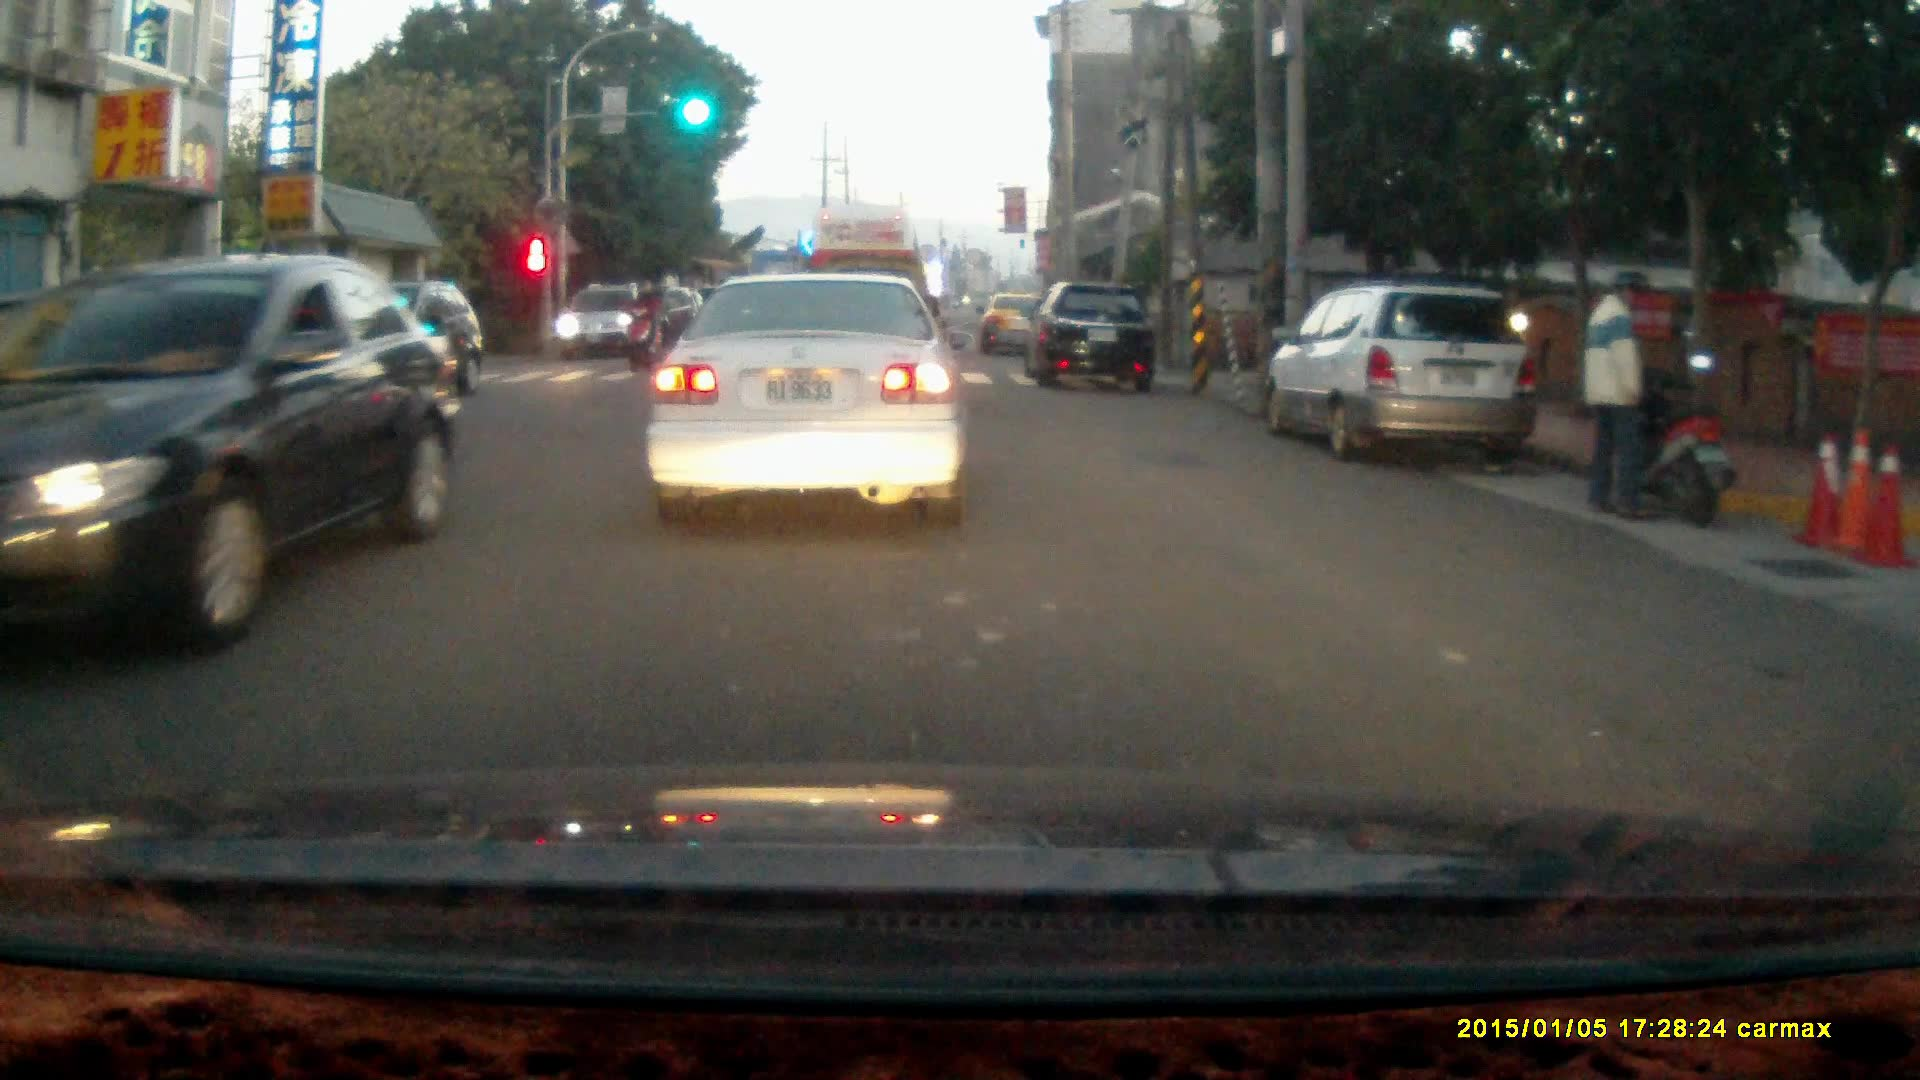pedestrian: (1575, 269, 1655, 523)
rider: (619, 277, 659, 370)
vehicle: (1, 253, 464, 659), (644, 272, 966, 526), (1277, 285, 1541, 469), (809, 204, 931, 366), (1026, 279, 1165, 391), (558, 281, 659, 355), (976, 291, 1070, 361)
